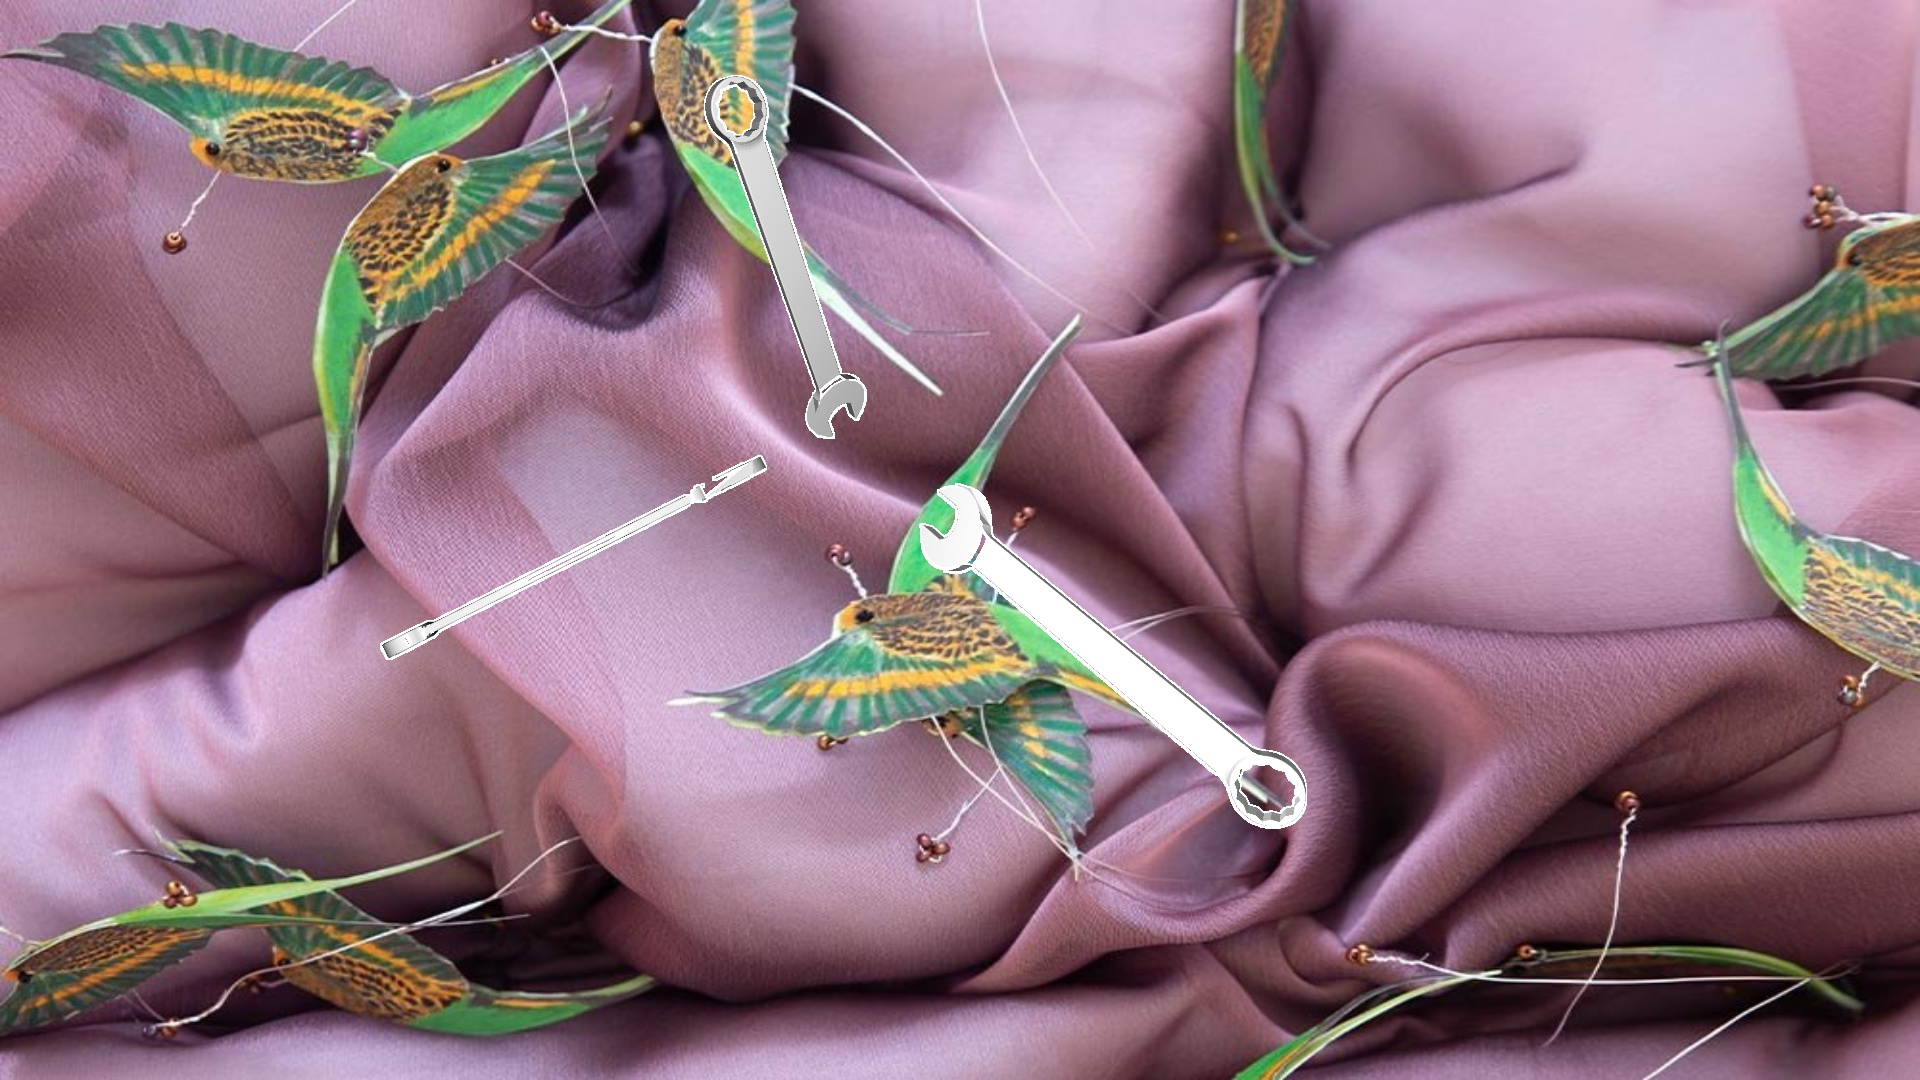Mixed Key: (919, 483, 1305, 828), (380, 455, 766, 659), (704, 75, 866, 438)
